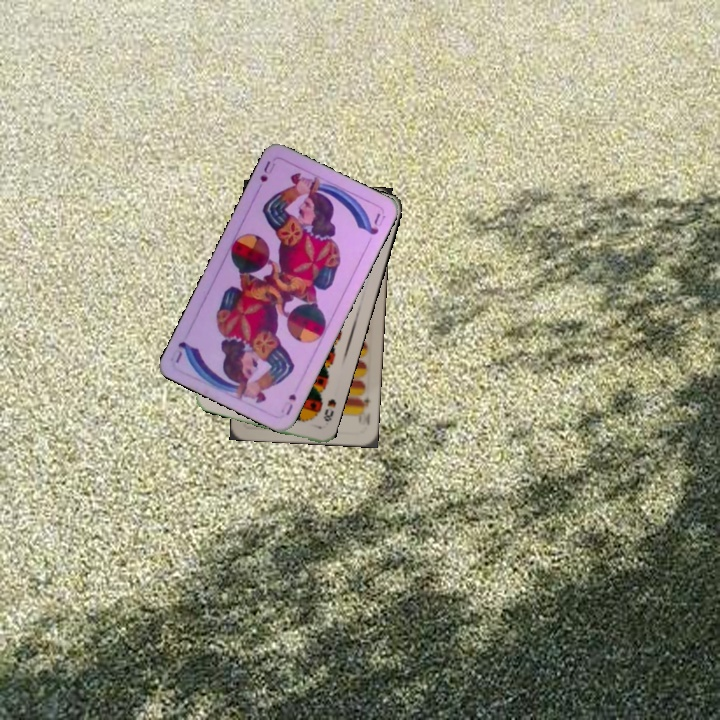E10: (356, 392, 372, 418)
S8: (319, 395, 339, 424)
SU: (256, 156, 278, 185), (282, 389, 299, 418)
